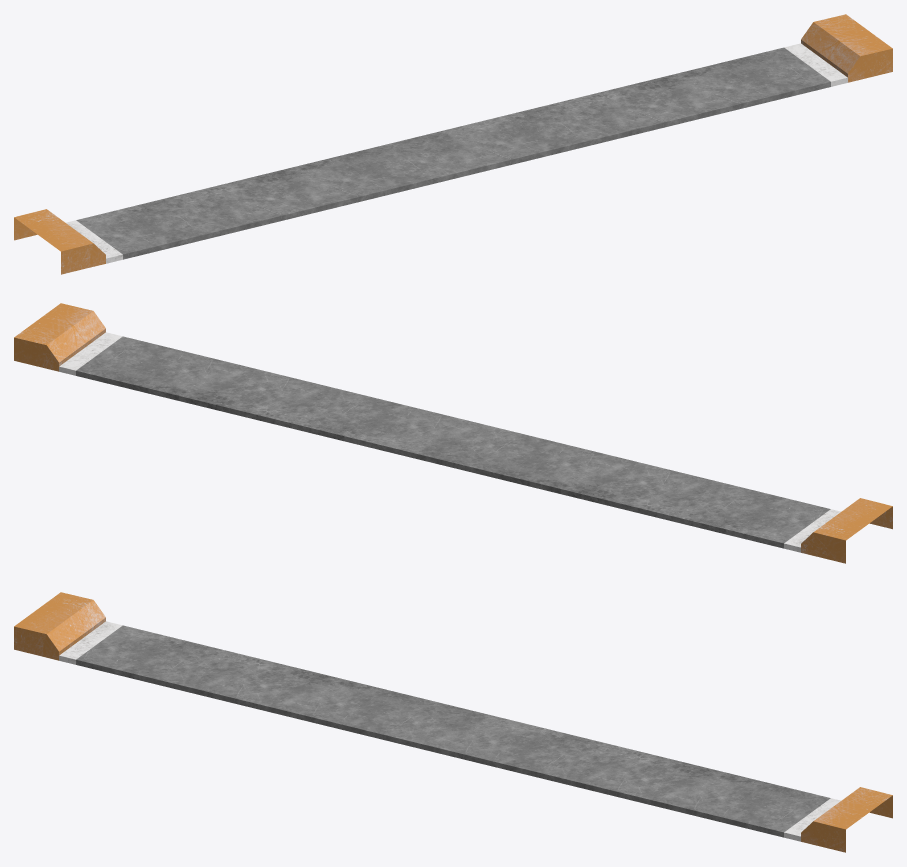
Rendered from SMOD_FrameRoad_B 1.fbx.
3 views of the same model, one above another, from view 1: azimuth 30°, elevation 25°; view 2: azimuth 150°, elevation 25°; view 3: azimuth 330°, elevation 25° (orthographic).
Visible parts, largest first — view 1: SMOD_FrameRoad_B; view 2: SMOD_FrameRoad_B; view 3: SMOD_FrameRoad_B.
Boxes of the visible parts, x1,y1,x2,y2 form: SMOD_FrameRoad_B: [14, 14, 892, 274]; SMOD_FrameRoad_B: [14, 303, 892, 563]; SMOD_FrameRoad_B: [14, 592, 892, 852].
Size of the model in its own units: 5148 by 139 by 503.
